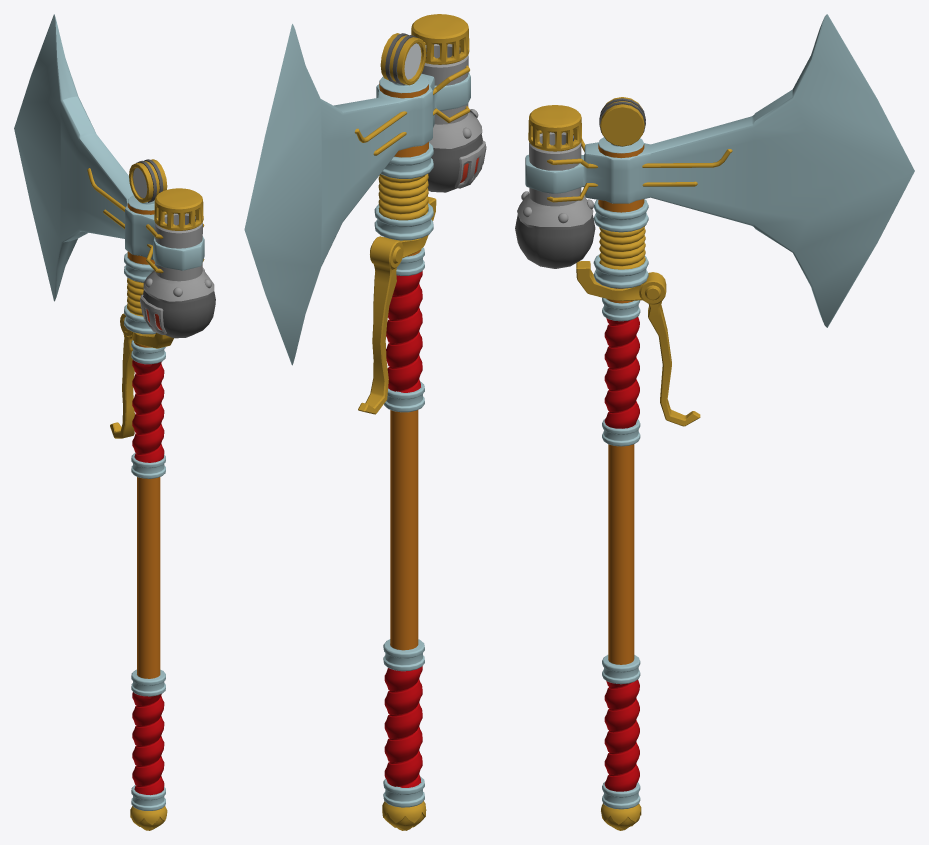
File: ццццц.fbx
3 renders of one model, left to right at view 1: azimuth 30°, elevation 25°; view 2: azimuth 150°, elevation 25°; view 3: azimuth 270°, elevation 25°, orthographic. The views are drawn at different scales.
Visible parts, largest first — view 1: Cylinder, Cylinder.005, Cylinder.006, Cube.005, Cube, Cylinder.001, Cube.002, Cylinder.003, Plane.002, Plane, Cube.003, Circle; view 2: Cylinder, Cylinder.005, Cylinder.006, Cylinder.001, Cube.005, Cube.002, Circle, Cylinder.003, Cube, Plane.002, Plane, Cube.003 (+2 smaller); view 3: Cylinder, Cylinder.005, Cylinder.006, Cube.005, Cylinder.001, Cube, Cube.002, Circle, Cylinder.003, Plane.002, Plane.
Boxes of the visible parts, left/top/right/bottom form: Cylinder: left=14, top=14, right=204, bottom=810; Cylinder.005: left=132, top=360, right=164, bottom=795; Cylinder.006: left=134, top=341, right=160, bottom=678; Cube.005: left=143, top=213, right=214, bottom=303; Cube: left=143, top=290, right=215, bottom=338; Cylinder.001: left=110, top=313, right=173, bottom=438; Cube.002: left=154, top=188, right=203, bottom=230; Cylinder.003: left=129, top=159, right=167, bottom=202; Plane.002: left=87, top=168, right=204, bottom=273; Plane: left=130, top=806, right=167, bottom=830; Cube.003: left=140, top=294, right=166, bottom=334; Circle: left=127, top=278, right=143, bottom=316; Cylinder: left=244, top=24, right=470, bottom=807; Cylinder.005: left=384, top=271, right=422, bottom=787; Cylinder.006: left=390, top=249, right=421, bottom=650; Cylinder.001: left=358, top=196, right=436, bottom=414; Cube.005: left=421, top=44, right=482, bottom=151; Cube.002: left=411, top=14, right=469, bottom=64; Circle: left=378, top=174, right=428, bottom=220; Cylinder.003: left=380, top=33, right=426, bottom=85; Cube: left=428, top=135, right=482, bottom=192; Plane.002: left=354, top=65, right=470, bottom=155; Plane: left=382, top=801, right=426, bottom=830; Cube.003: left=454, top=140, right=486, bottom=188; Cylinder: left=525, top=14, right=914, bottom=809; Cylinder.005: left=604, top=317, right=639, bottom=791; Cylinder.006: left=607, top=288, right=634, bottom=664; Cube.005: left=517, top=132, right=593, bottom=229; Cylinder.001: left=576, top=261, right=700, bottom=426; Cube: left=515, top=214, right=595, bottom=268; Cube.002: left=528, top=105, right=581, bottom=151; Circle: left=599, top=226, right=645, bottom=269; Cylinder.003: left=600, top=97, right=644, bottom=146; Plane.002: left=547, top=139, right=732, bottom=202; Plane: left=601, top=803, right=641, bottom=830.
Bounding box in the file's own units: 34.16 × 373 × 166.
